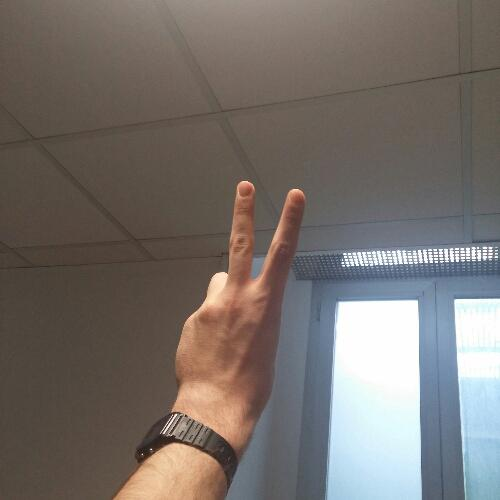scissors: (169, 171, 307, 426)
